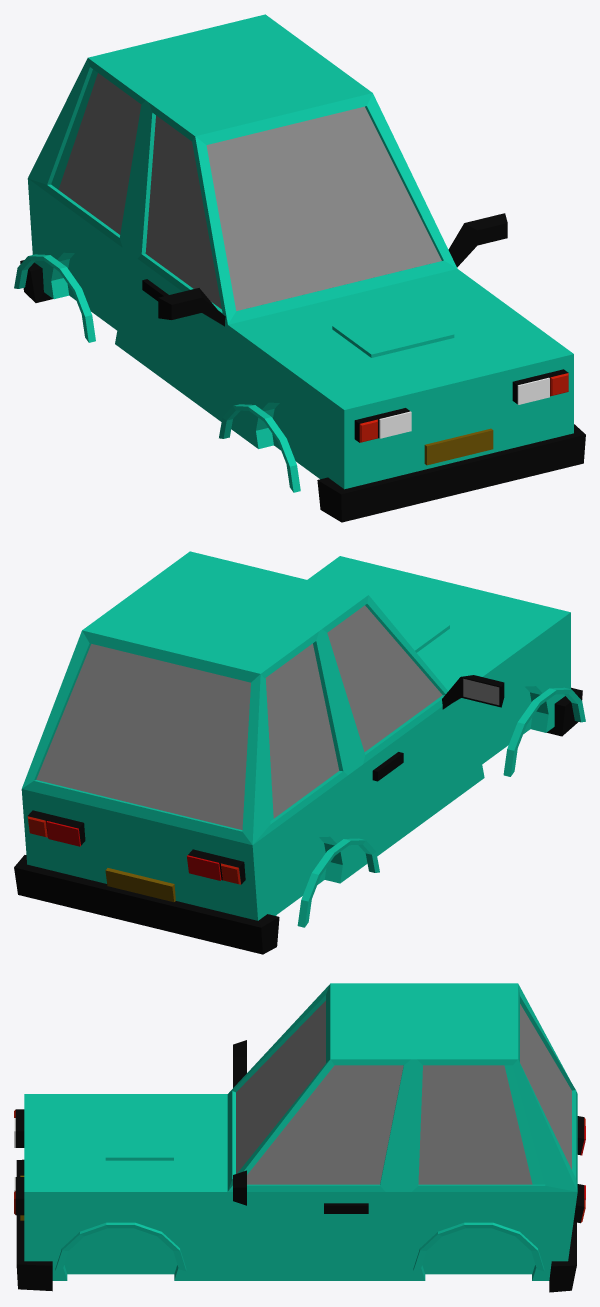
Rendered from CarA.obj.
3 views of the same model, one above another, from view 1: azimuth 30°, elevation 25°; view 2: azimuth 150°, elevation 25°; view 3: azimuth 270°, elevation 25° (orthographic). The views are drawn at different scales.
Parts seen in each view (by area): view 1: Car_Body, Back, Front; view 2: Car_Body, Front, Back; view 3: Car_Body, Front, Back.
Part boxes in pixels (x1=…): Car_Body: x1=20, y1=14, x2=585, y2=522; Back: x1=14, y1=254, x2=95, y2=342; Front: x1=219, y1=404, x2=300, y2=492; Car_Body: x1=14, y1=551, x2=582, y2=954; Front: x1=503, y1=687, x2=585, y2=776; Back: x1=297, y1=838, x2=379, y2=927; Car_Body: x1=14, y1=983, x2=585, y2=1292; Front: x1=55, y1=1222, x2=186, y2=1271; Back: x1=413, y1=1222, x2=544, y2=1271.
Size of the model in its own units: 5.22 by 3.6 by 8.53.
